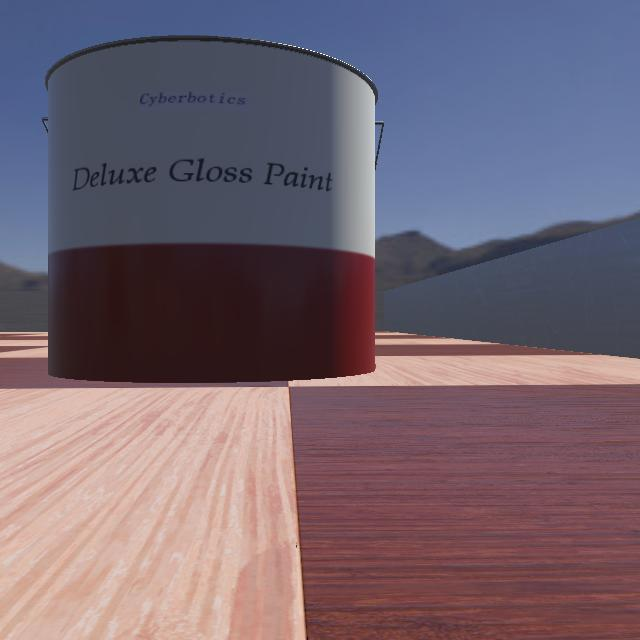paint-bucket: (1, 34, 403, 386)
